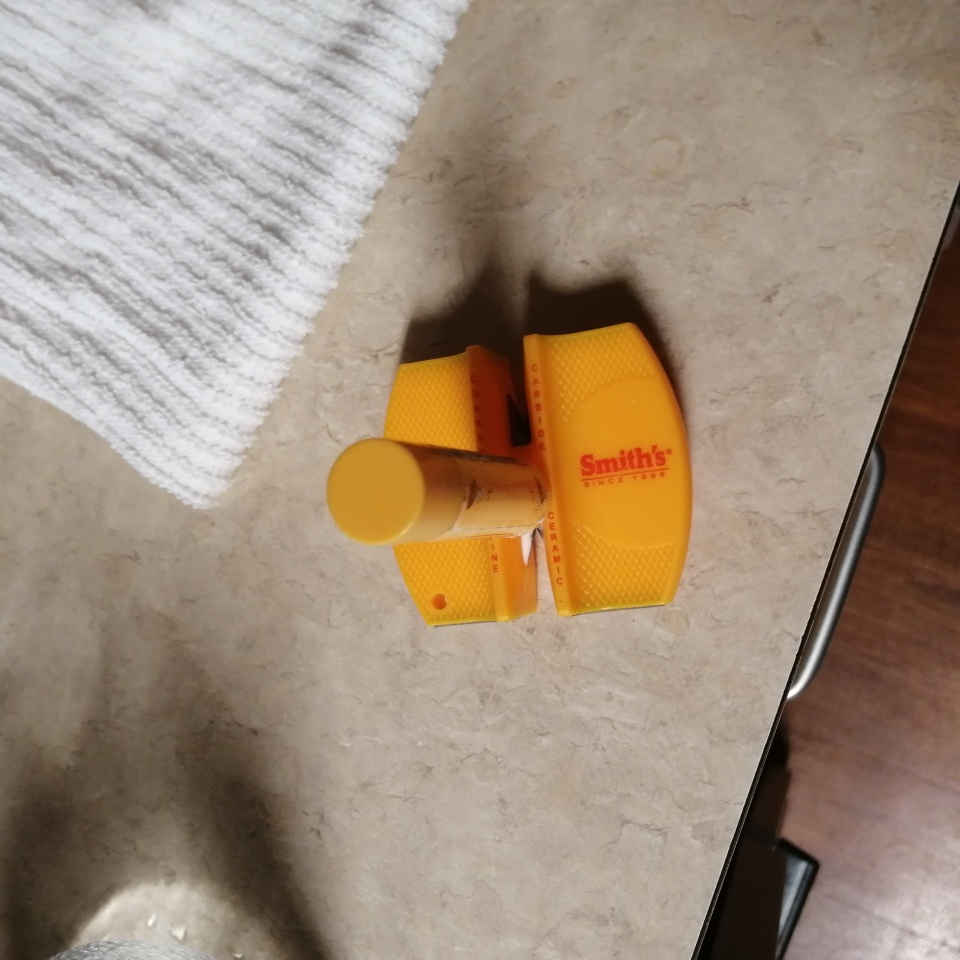chapstick: (325, 437, 549, 546)
